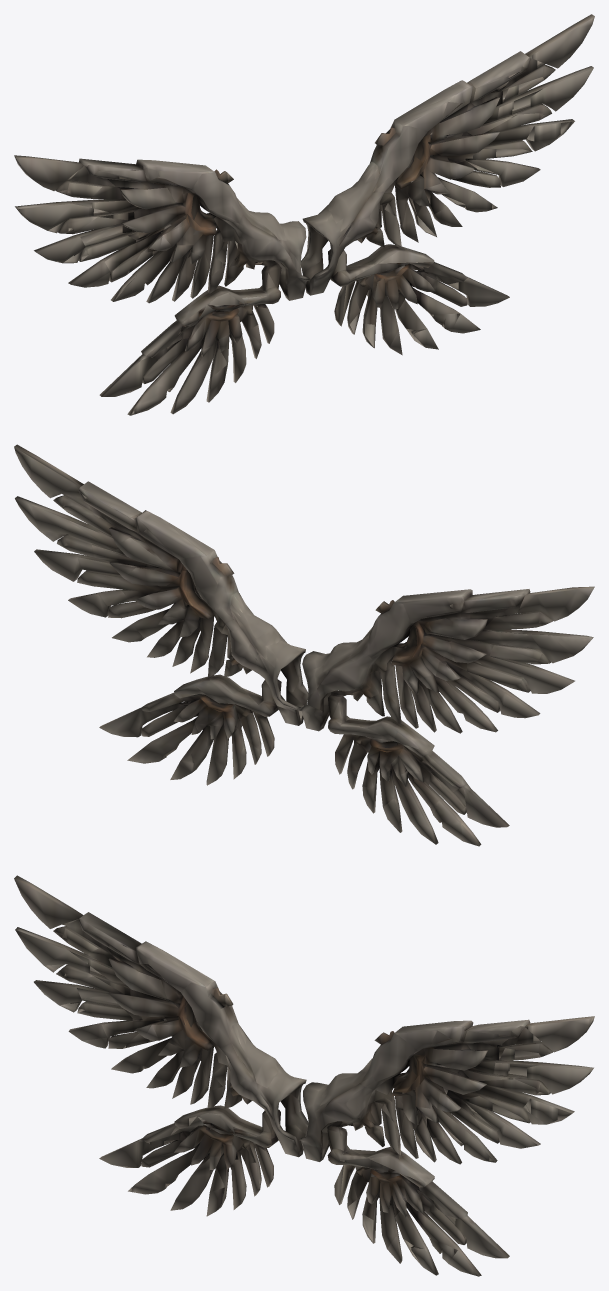
File: 钢铁翅膀2.fbx
The picture shows the model from 3 angles, top to bottom: view 1: azimuth 30°, elevation 25°; view 2: azimuth 150°, elevation 25°; view 3: azimuth 330°, elevation 25°; orthographic projection.
Visible parts, largest first — view 1: geometry_0.005; view 2: geometry_0.005; view 3: geometry_0.005.
Part boxes in pixels (x1,y1,x2,y2): geometry_0.005: (14,14,594,415); geometry_0.005: (14,444,594,846); geometry_0.005: (14,875,594,1276).
Size of the model in its own units: 100 by 48.89 by 8.13.
